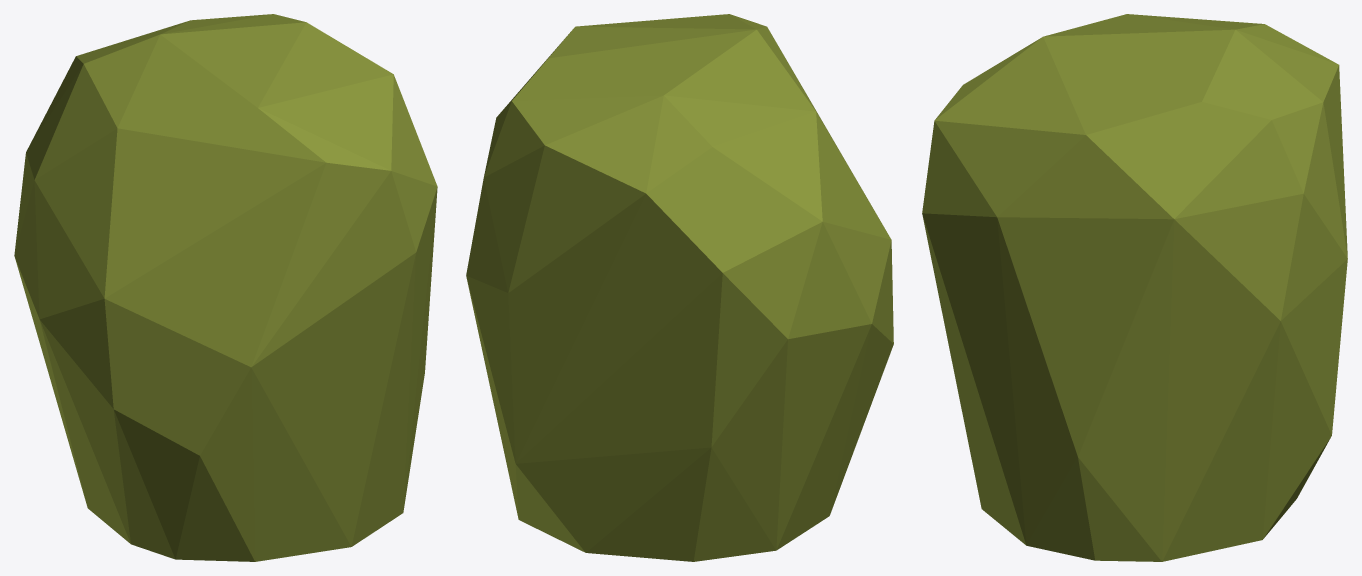
The model's file is ea_swamp_grass_02e_pre__8__lev1.glb.
The picture shows the model from 3 angles, left to right: view 1: azimuth 30°, elevation 25°; view 2: azimuth 150°, elevation 25°; view 3: azimuth 270°, elevation 25°; orthographic projection. The views are drawn at different scales.
Visible parts, largest first — view 1: ea_swamp_grass_02e_pre__8__lev1; view 2: ea_swamp_grass_02e_pre__8__lev1; view 3: ea_swamp_grass_02e_pre__8__lev1.
Boxes of the visible parts, x1,y1,x2,y2 form: ea_swamp_grass_02e_pre__8__lev1: (14, 14, 437, 561); ea_swamp_grass_02e_pre__8__lev1: (466, 14, 893, 561); ea_swamp_grass_02e_pre__8__lev1: (922, 14, 1347, 561).
Size of the model in its own units: 1.5 by 1.76 by 1.52.
1 material, 1 textured.
